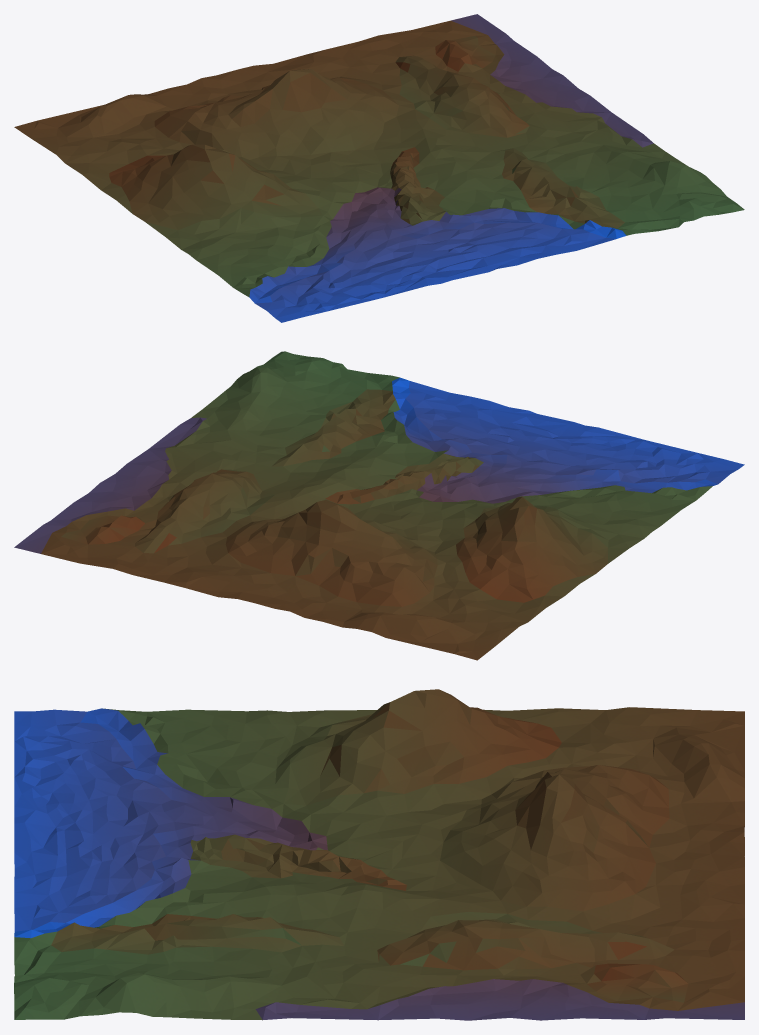
The model's file is WhyNot_RTS_Map1.fbx.
The picture shows the model from 3 angles, top to bottom: view 1: azimuth 30°, elevation 25°; view 2: azimuth 150°, elevation 25°; view 3: azimuth 270°, elevation 25°; orthographic projection. The views are drawn at different scales.
Parts seen in each view (by area): view 1: 평면.004; view 2: 평면.004; view 3: 평면.004.
Part boxes in pixels (bbox=[...]): 평면.004: bbox=[14, 14, 744, 322]; 평면.004: bbox=[14, 351, 744, 660]; 평면.004: bbox=[14, 689, 744, 1020].
Size of the model in its own units: 20013 by 2573 by 20016.
